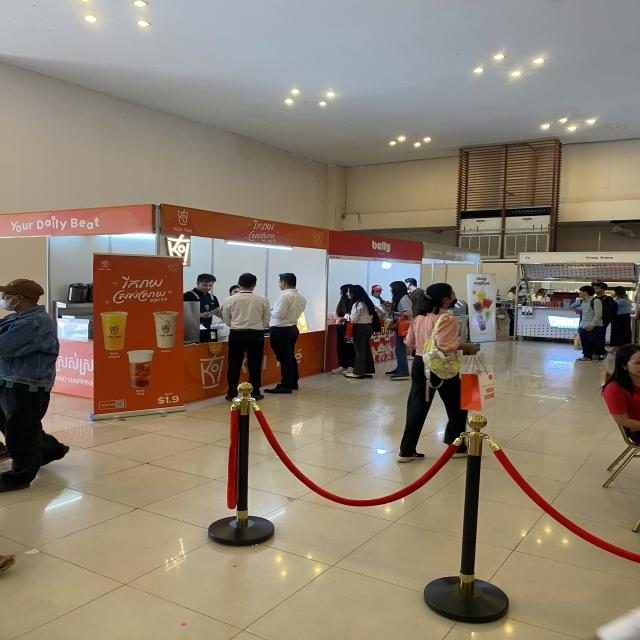104: (157, 395, 181, 405)
893: (445, 250, 478, 261), (473, 281, 491, 286), (475, 277, 488, 281)
Yolov11_80vkh: (52, 351, 98, 376), (108, 288, 169, 306), (117, 276, 167, 290), (246, 230, 277, 243), (250, 218, 276, 231), (147, 297, 168, 304), (106, 354, 122, 359), (265, 238, 277, 243), (163, 391, 174, 396), (135, 388, 145, 393), (135, 392, 146, 396), (109, 351, 119, 355), (160, 350, 172, 353)
